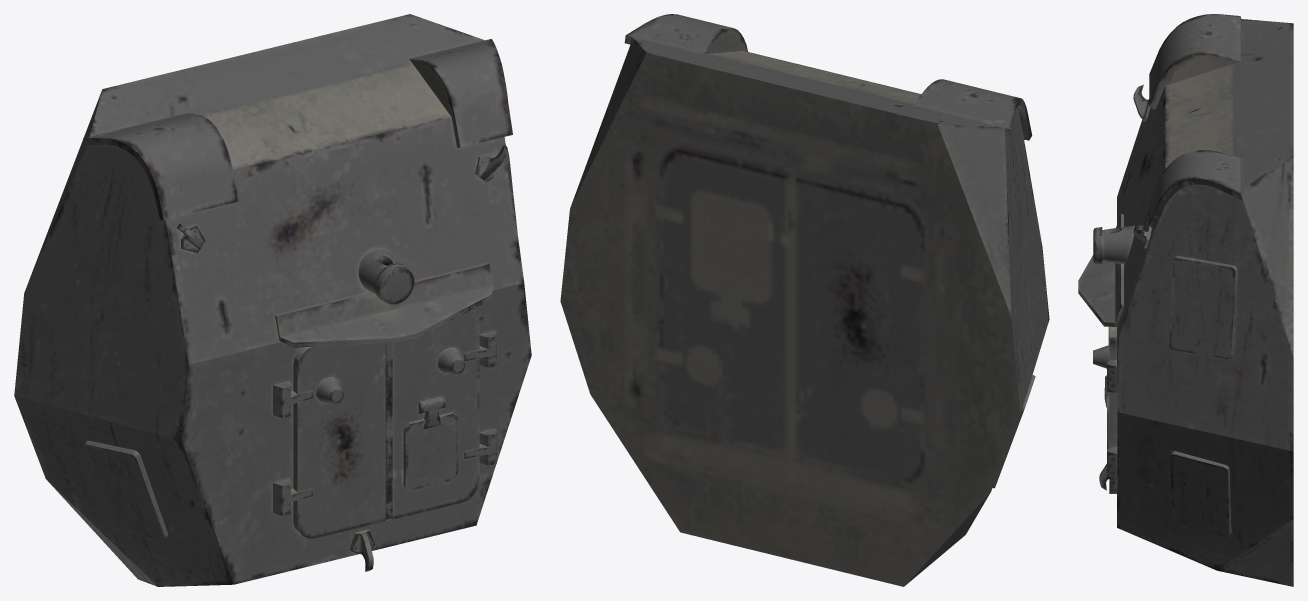
The model's file is Turret_01.glb.
3 views of the same model, side by side, from view 1: azimuth 30°, elevation 25°; view 2: azimuth 150°, elevation 25°; view 3: azimuth 270°, elevation 25° (orthographic). The views are drawn at different scales.
Visible parts, largest first — view 1: set_0_group_0; view 2: set_0_group_0; view 3: set_0_group_0.
Part boxes in pixels (box(x1,y1,x2,y2)): set_0_group_0: box(14, 14, 531, 586); set_0_group_0: box(560, 14, 1049, 586); set_0_group_0: box(1078, 14, 1293, 586).
Bounding box in the file's own units: 1.58 × 1.54 × 0.6757.
Materials: 1 (1 with a texture image).
